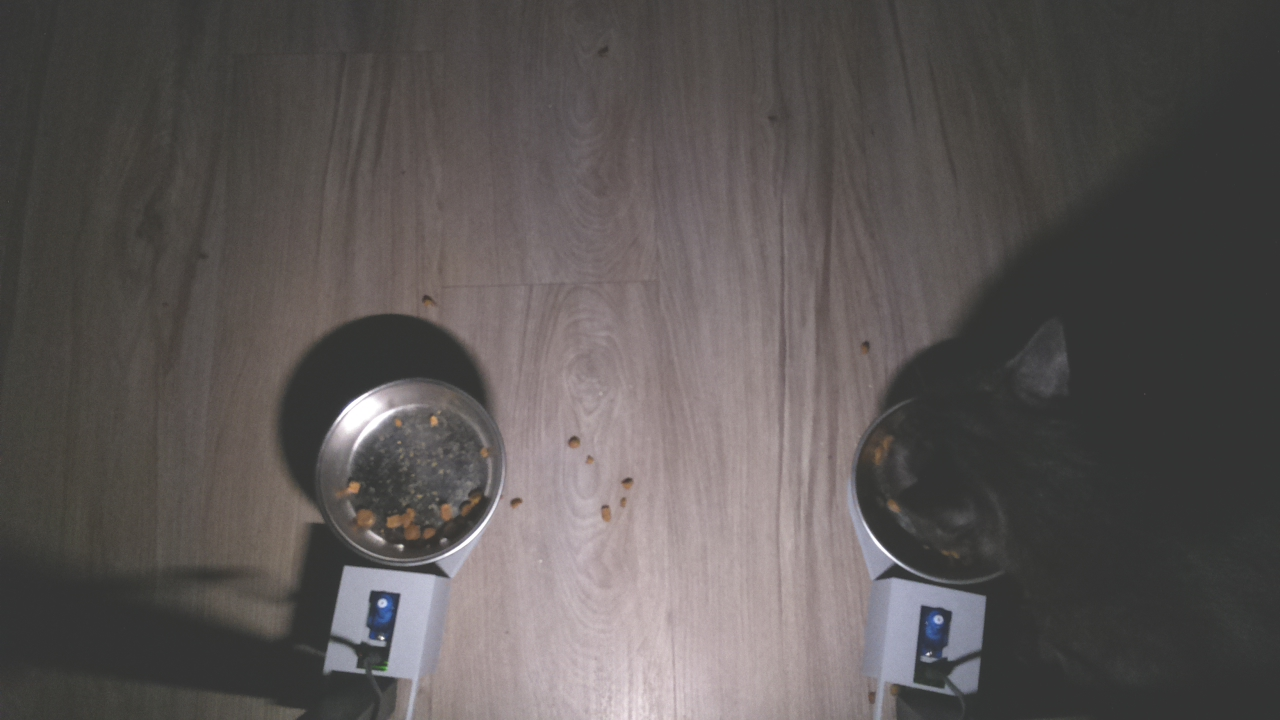open_bowl: (308, 372, 507, 572)
saki_eating: (843, 304, 1127, 594)
